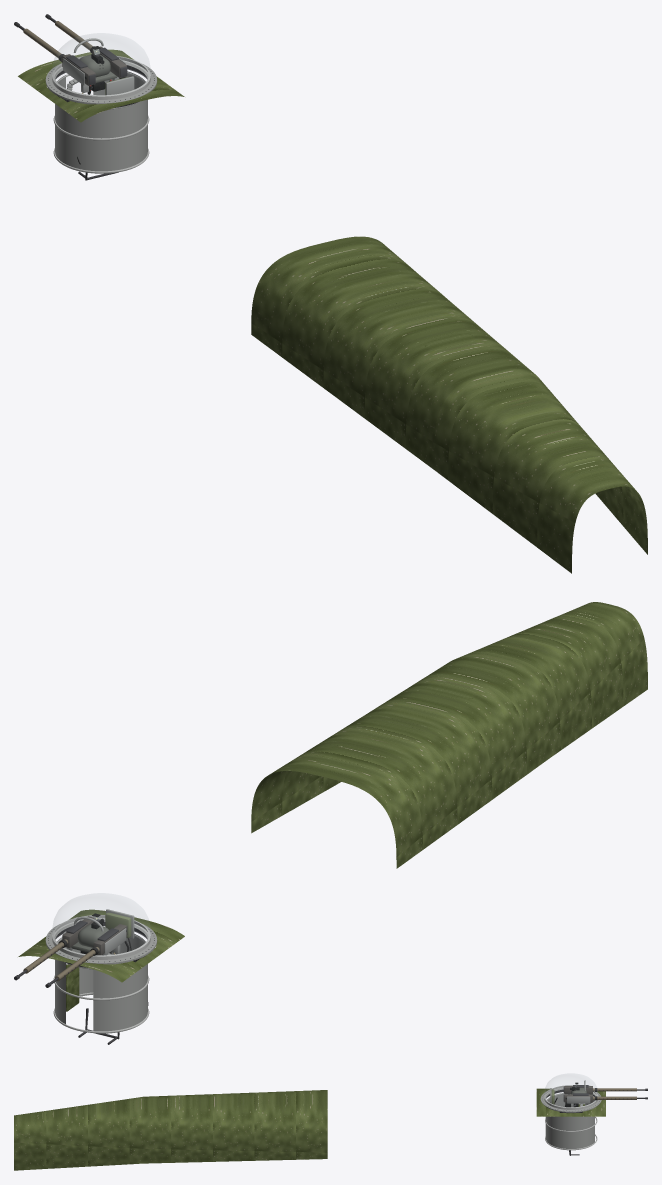
Rendered from b24-top-turret.glb.
3 renders of one model, top to bottom at view 1: azimuth 30°, elevation 25°; view 2: azimuth 150°, elevation 25°; view 3: azimuth 270°, elevation 25°, orthographic. The views are drawn at different scales.
Parts seen in each view (by area): view 1: olive_drab, aluminium_dull, aluminium, plexiglas, gunmetal; view 2: olive_drab, aluminium_dull, plexiglas, aluminium, gunmetal; view 3: olive_drab, aluminium_dull, aluminium, plexiglas, barrel_jacket, gunmetal, parkerized.
Boxes of the visible parts, left/top/right/bottom form: olive_drab: left=18, top=49, right=647, bottom=573; aluminium_dull: left=45, top=38, right=157, bottom=173; aluminium: left=52, top=55, right=150, bottom=173; plexiglas: left=52, top=33, right=150, bottom=72; gunmetal: left=14, top=14, right=154, bottom=180; olive_drab: left=18, top=602, right=647, bottom=1011; aluminium_dull: left=45, top=909, right=157, bottom=1033; plexiglas: left=52, top=893, right=150, bottom=932; aluminium: left=52, top=915, right=150, bottom=1033; gunmetal: left=14, top=920, right=154, bottom=1044; olive_drab: left=14, top=1088, right=605, bottom=1170; aluminium_dull: left=540, top=1080, right=601, bottom=1150; aluminium: left=544, top=1085, right=598, bottom=1149; plexiglas: left=545, top=1074, right=597, bottom=1093; barrel_jacket: left=593, top=1088, right=636, bottom=1099; gunmetal: left=546, top=1085, right=647, bottom=1155; parkerized: left=564, top=1086, right=592, bottom=1102.
Size of the model in its own units: 1.99 by 1.96 by 13.71.
19 materials, 4 textured.
